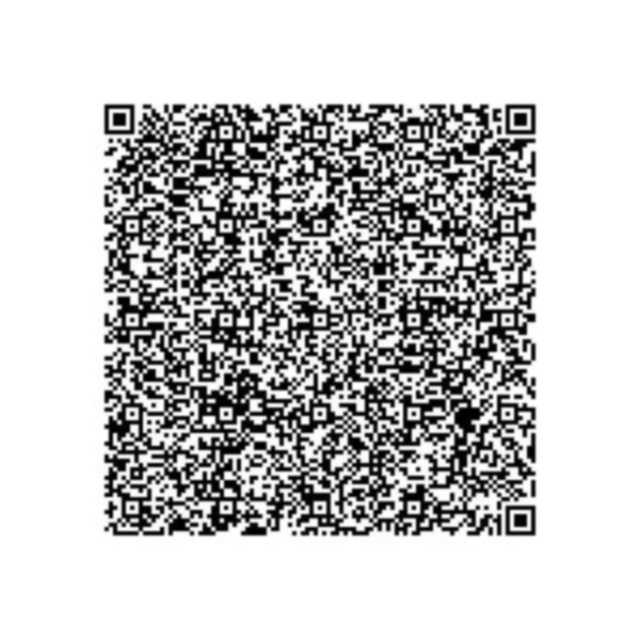qr-code: (93, 72, 566, 566)
